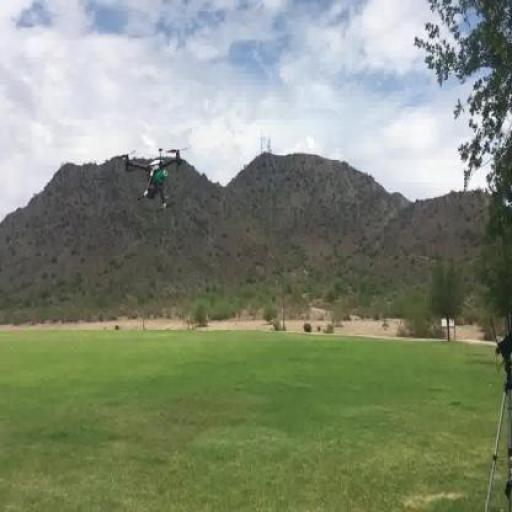drone: (122, 146, 191, 210)
